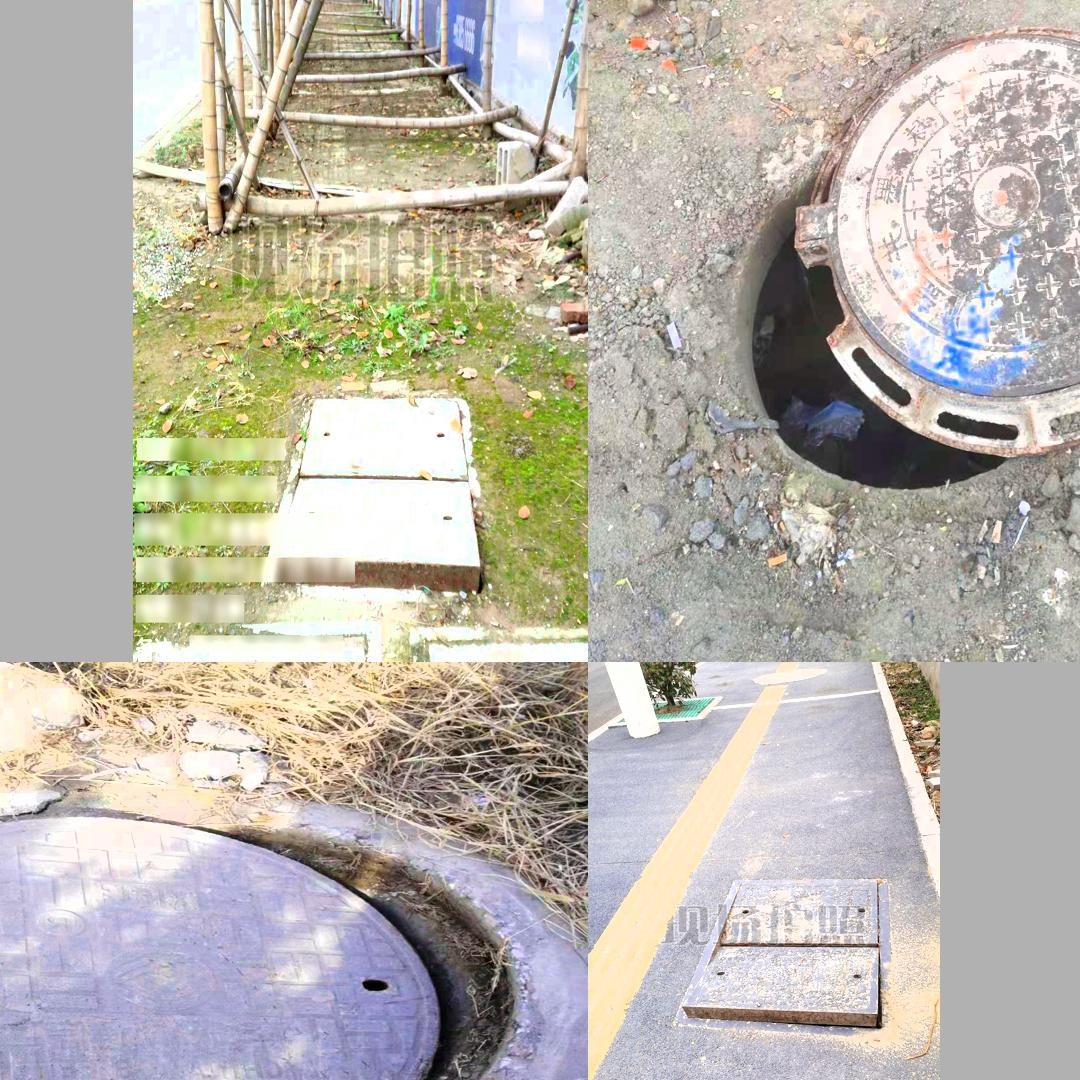uncovered: (735, 28, 1080, 486), (0, 809, 537, 1080), (287, 381, 484, 582), (670, 878, 897, 1039)
